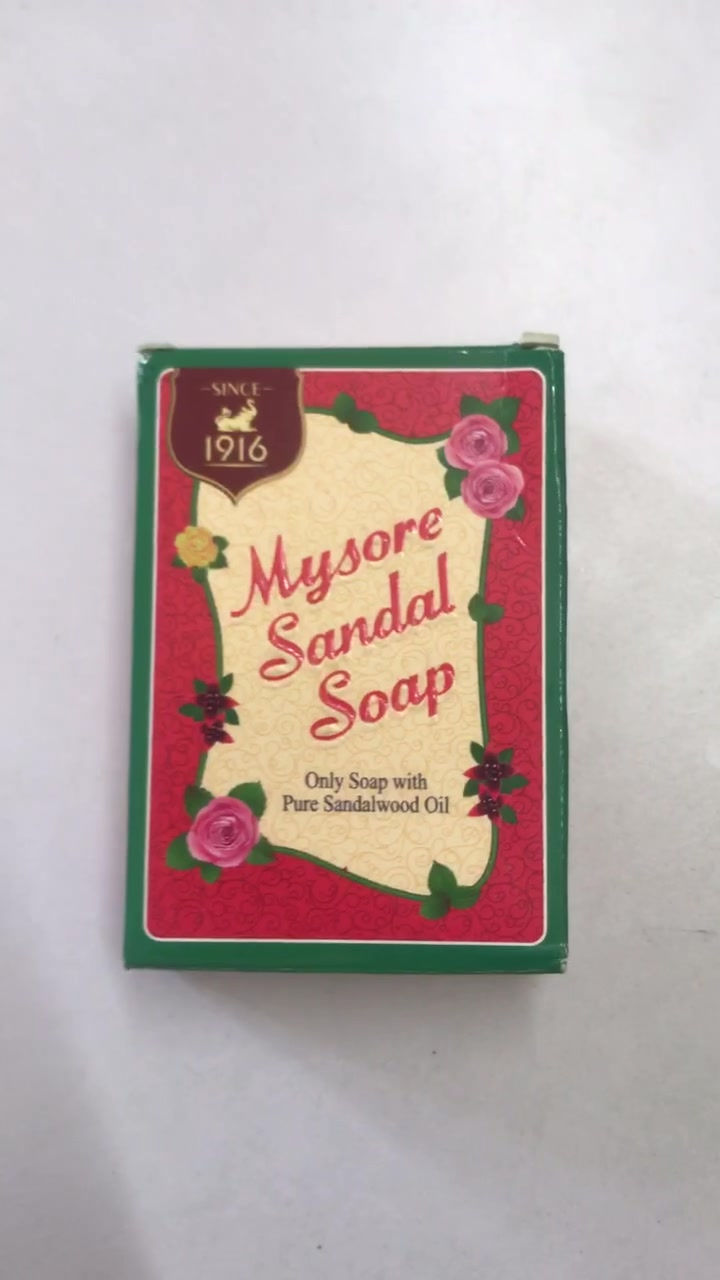mysore sandal soap: (126, 345, 567, 974)
